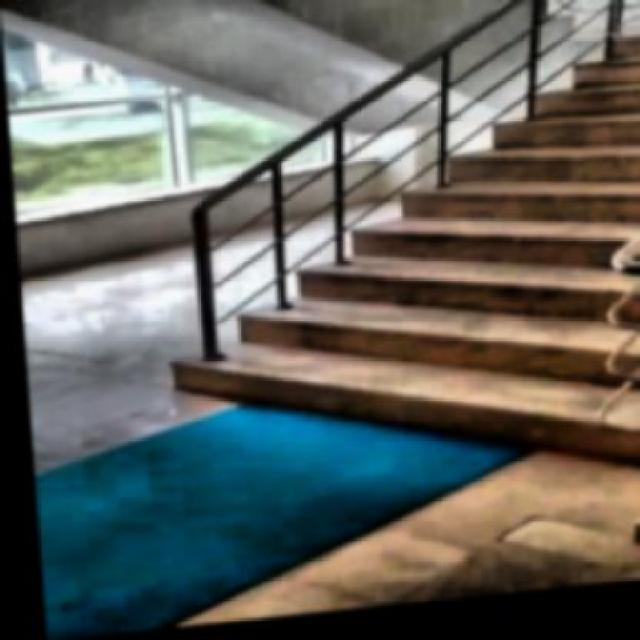stair: (144, 25, 638, 512)
